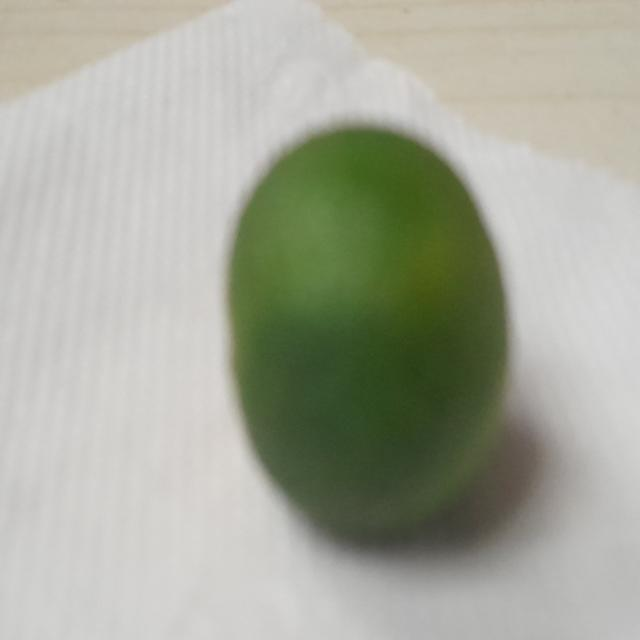heathy: (229, 123, 506, 548)
